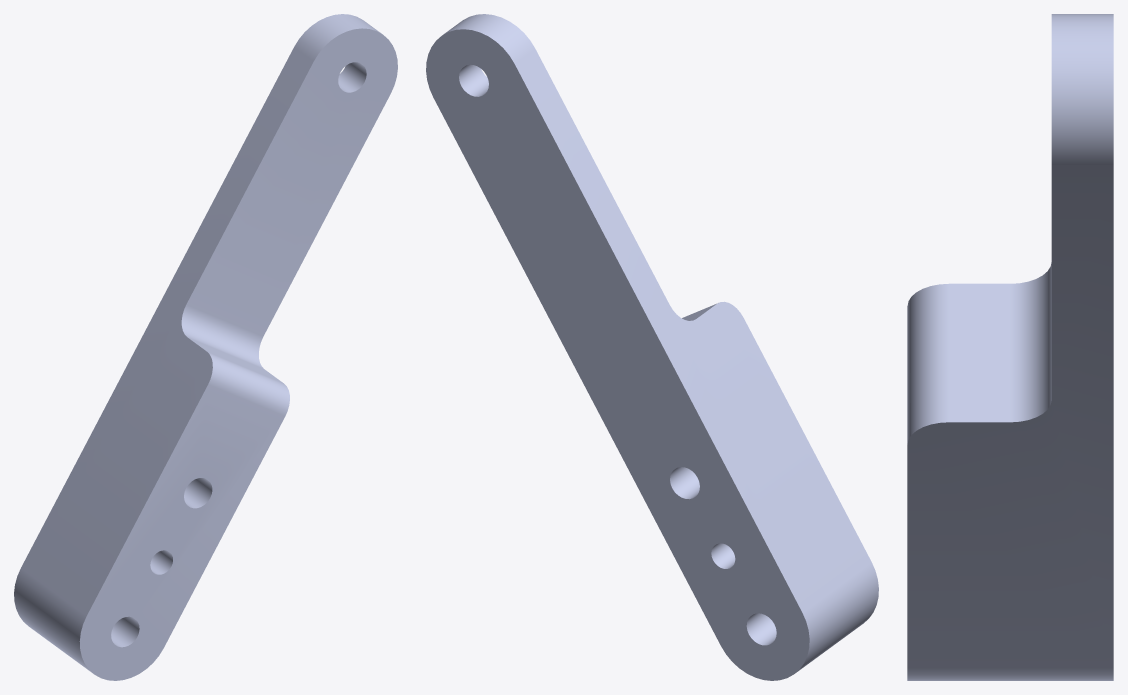
File: small_needle_holder_link1_1.dae
3 views of the same model, side by side, from view 1: azimuth 30°, elevation 25°; view 2: azimuth 150°, elevation 25°; view 3: azimuth 270°, elevation 25° (orthographic). The views are drawn at different scales.
Visible parts, largest first — view 1: node0; view 2: node0; view 3: node0.
Boxes of the visible parts, x1,y1,x2,y2 form: node0: [14, 14, 397, 680]; node0: [426, 14, 878, 680]; node0: [907, 14, 1113, 680].
Size of the model in its own units: 0.032 by 0.0461 by 0.01.
